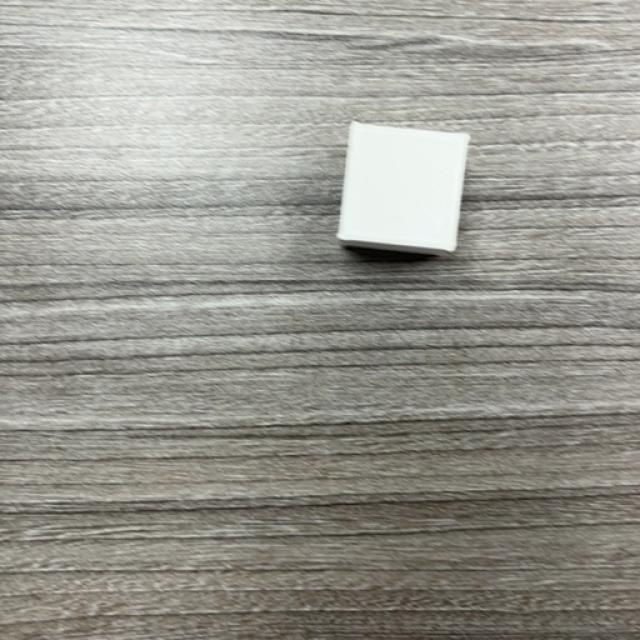Blanco: (336, 122, 470, 256)
